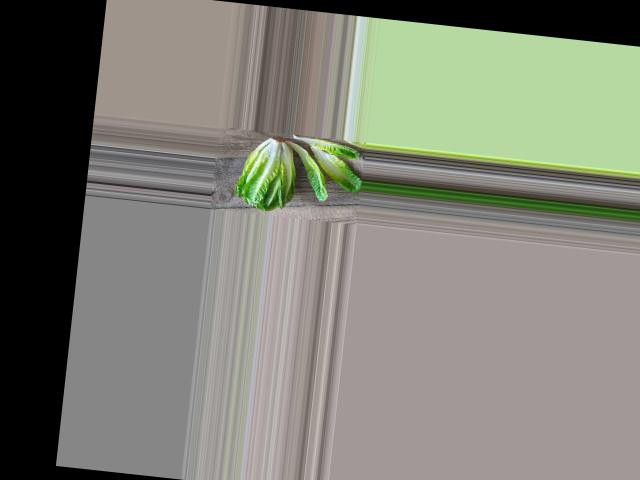lettuce: (232, 136, 302, 213)
